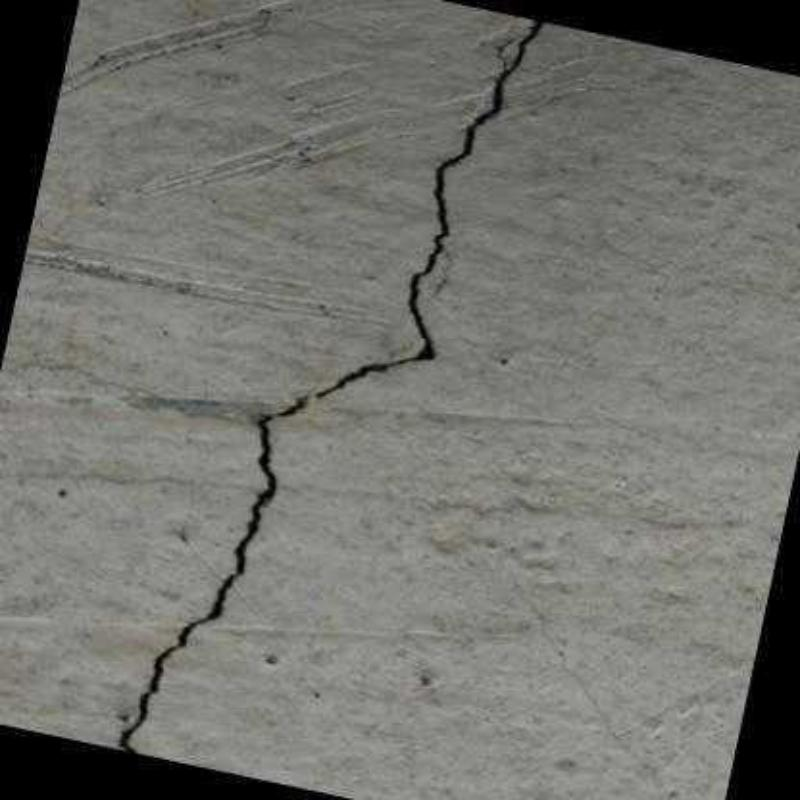pothole: (115, 21, 548, 754)
